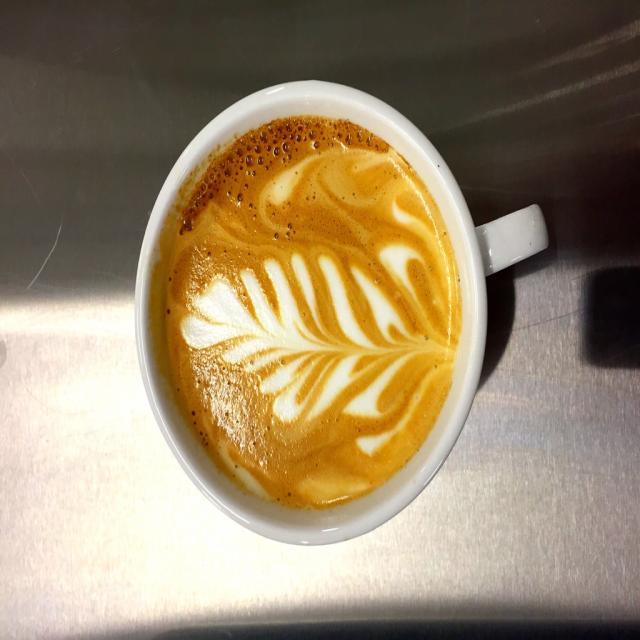Coffee: (158, 111, 468, 509)
